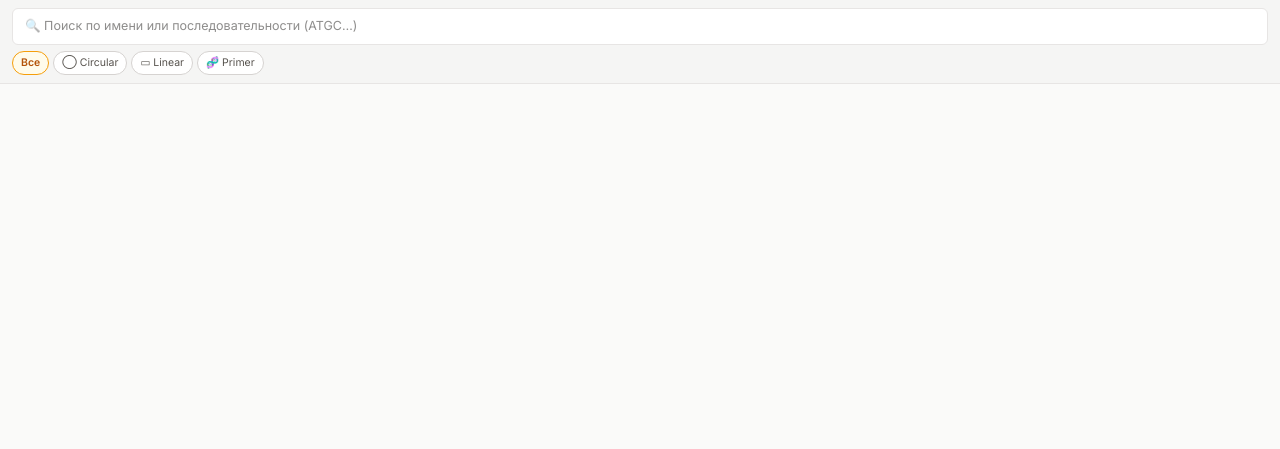
LibrarySearchBar — dropdown mode (canvas) › ★ favorite toggle promotes entry into Избранное
Focus the search field with test id "canvas-library-search-bar-input" at x=640, y=26, box [12,8,1268,45]
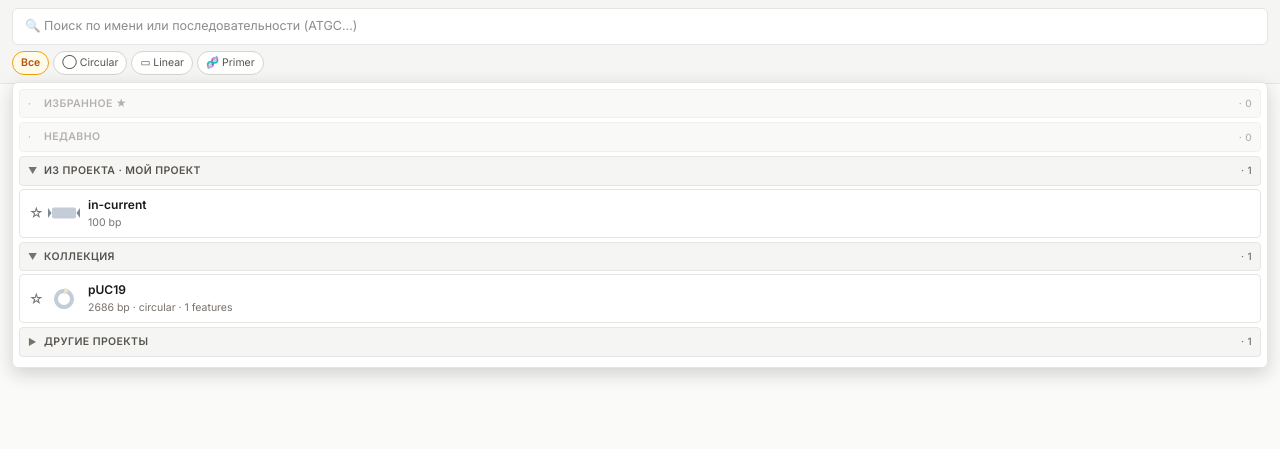
Click the button with test id "canvas-library-search-bar-section-loose-fav-le01" at x=36, y=299, box [27,290,46,308]
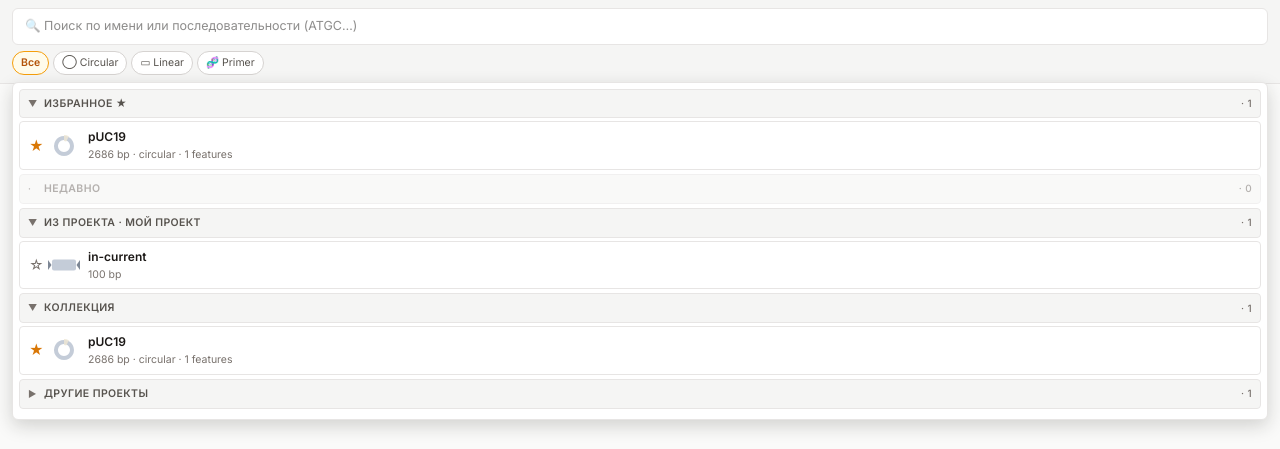
Result: the button with test id "canvas-library-search-bar-section-favorites-item-le01" is shown at [19,121,1261,170]
